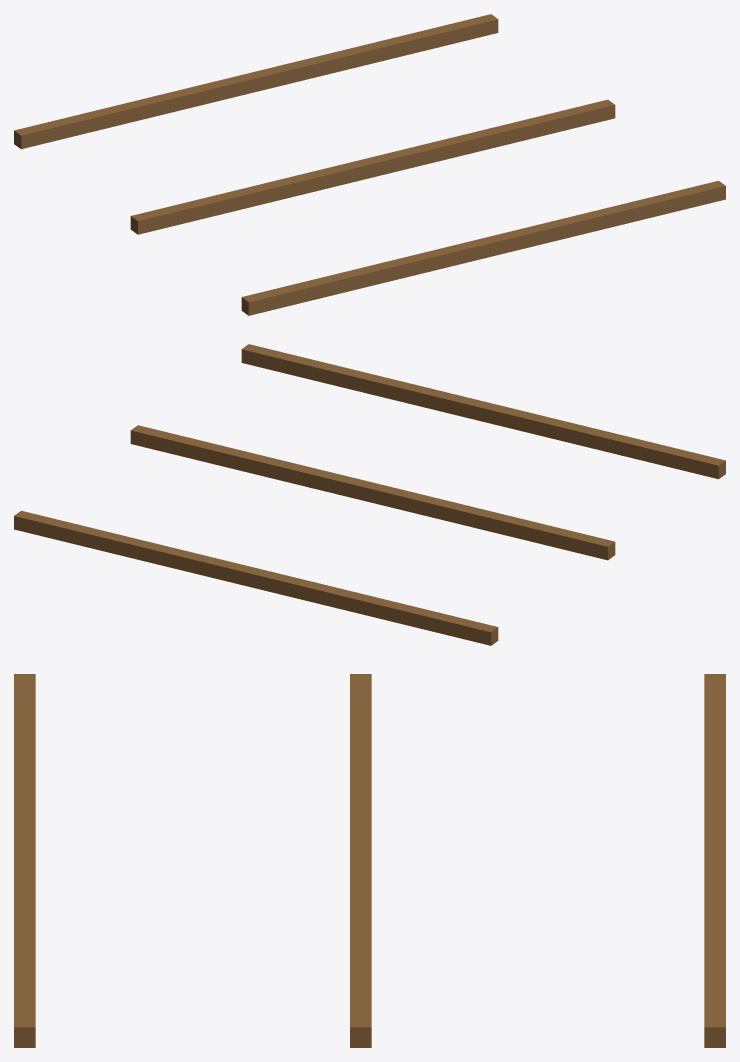
The model's file is diner_beams.glb.
The picture shows the model from 3 angles, top to bottom: view 1: azimuth 30°, elevation 25°; view 2: azimuth 150°, elevation 25°; view 3: azimuth 270°, elevation 25°; orthographic projection. The views are drawn at different scales.
Visible parts, largest first — view 1: diner_beams; view 2: diner_beams; view 3: diner_beams.
Part boxes in pixels (left/top/right/bottom): diner_beams: left=14, top=14, right=725, bottom=315; diner_beams: left=14, top=344, right=725, bottom=645; diner_beams: left=14, top=674, right=725, bottom=1047.
Bounding box in the file's own units: 9.2 × 0.25 × 7.84.
